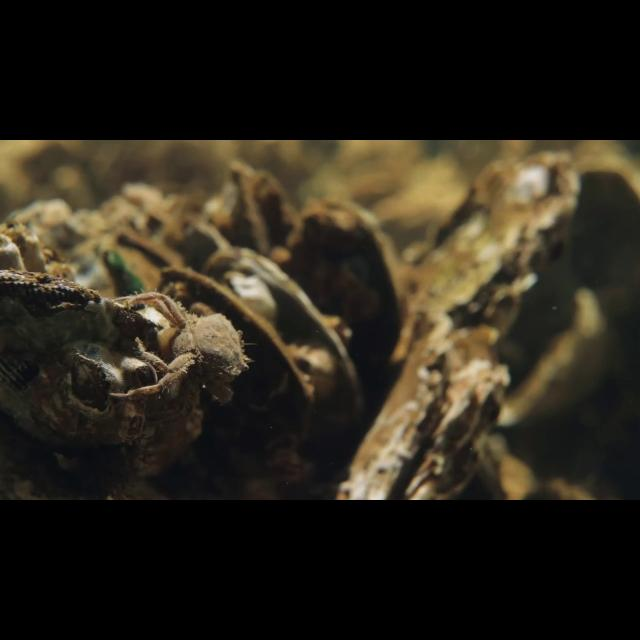Oyster-Closed: (378, 147, 595, 364), (266, 194, 400, 434)
Oyster-Open: (147, 242, 370, 490), (334, 313, 533, 499)
